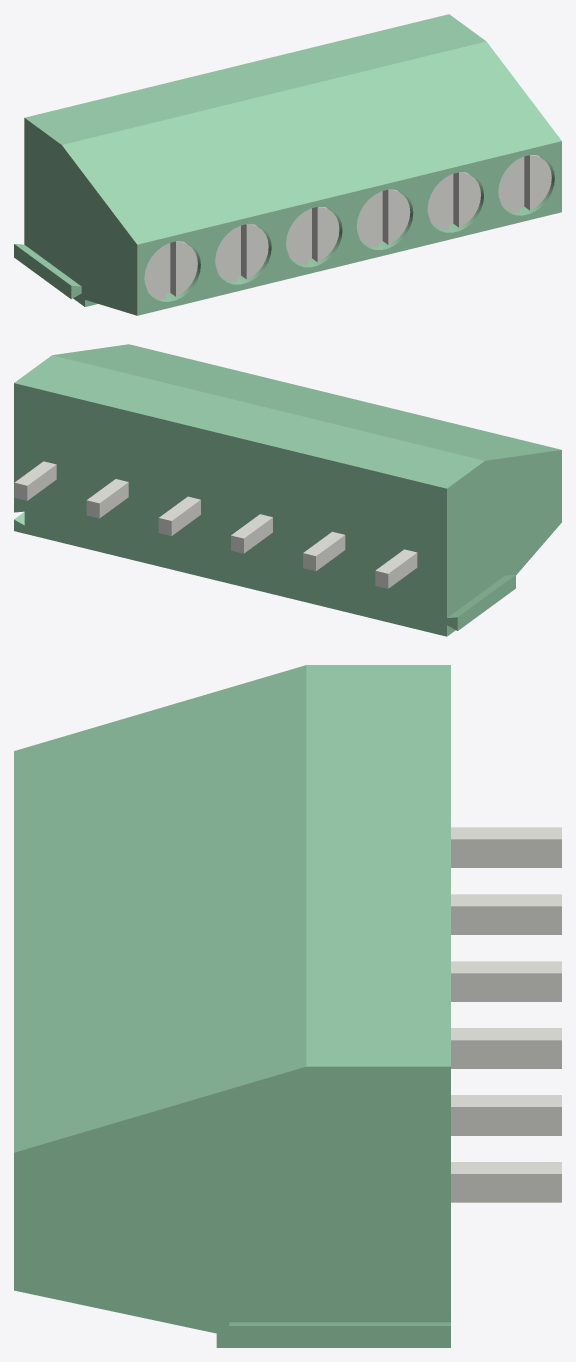
Rendered from TerminalBlock_Phoenix_MKDS-1,5-6_1x06_P5.00mm_Horizontal.glb.
3 renders of one model, top to bottom at view 1: azimuth 30°, elevation 25°; view 2: azimuth 150°, elevation 25°; view 3: azimuth 270°, elevation 25°, orthographic. The views are drawn at different scales.
Parts seen in each view (by area): view 1: Shape_IndexedFaceSet.003, Shape_IndexedFaceSet.004, Shape_IndexedFaceSet.002, Shape_IndexedFaceSet, Shape_IndexedFaceSet.167, Shape_IndexedFaceSet.197, Shape_IndexedFaceSet.187, Shape_IndexedFaceSet.221, Shape_IndexedFaceSet.217, Shape_IndexedFaceSet.177, Shape_IndexedFaceSet.191, Shape_IndexedFaceSet.207 (+6 smaller); view 2: Shape_IndexedFaceSet.005, Shape_IndexedFaceSet.004, Shape_IndexedFaceSet, Shape_IndexedFaceSet.003, Shape_IndexedFaceSet.018, Shape_IndexedFaceSet.039, Shape_IndexedFaceSet.023, Shape_IndexedFaceSet.031, Shape_IndexedFaceSet.035, Shape_IndexedFaceSet.043, Shape_IndexedFaceSet.027, Shape_IndexedFaceSet.006 (+6 smaller); view 3: Shape_IndexedFaceSet.003, Shape_IndexedFaceSet.011, Shape_IndexedFaceSet.004, Shape_IndexedFaceSet.025, Shape_IndexedFaceSet.029, Shape_IndexedFaceSet.033, Shape_IndexedFaceSet.037, Shape_IndexedFaceSet.041, Shape_IndexedFaceSet.045, Shape_IndexedFaceSet.020, Shape_IndexedFaceSet.024, Shape_IndexedFaceSet.028 (+5 smaller).
Part boxes in pixels (box(x1,y1,x2,y2)): Shape_IndexedFaceSet.003: box(62, 41, 561, 244); Shape_IndexedFaceSet.004: box(25, 14, 485, 144); Shape_IndexedFaceSet.002: box(137, 141, 561, 315); Shape_IndexedFaceSet: box(24, 118, 137, 315); Shape_IndexedFaceSet.167: box(246, 224, 268, 279); Shape_IndexedFaceSet.197: box(317, 207, 339, 261); Shape_IndexedFaceSet.187: box(388, 190, 410, 244); Shape_IndexedFaceSet.221: box(427, 176, 449, 230); Shape_IndexedFaceSet.217: box(459, 172, 480, 227); Shape_IndexedFaceSet.177: box(176, 241, 197, 296); Shape_IndexedFaceSet.191: box(356, 193, 378, 247); Shape_IndexedFaceSet.207: box(530, 155, 551, 210); Shape_IndexedFaceSet.005: box(14, 383, 457, 636); Shape_IndexedFaceSet.004: box(14, 355, 484, 488); Shape_IndexedFaceSet: box(447, 450, 561, 636); Shape_IndexedFaceSet.003: box(53, 344, 561, 460); Shape_IndexedFaceSet.018: box(457, 575, 515, 630); Shape_IndexedFaceSet.039: box(27, 464, 56, 500); Shape_IndexedFaceSet.023: box(171, 500, 200, 535); Shape_IndexedFaceSet.031: box(316, 535, 345, 570); Shape_IndexedFaceSet.035: box(388, 553, 417, 588); Shape_IndexedFaceSet.043: box(99, 482, 128, 517); Shape_IndexedFaceSet.027: box(244, 517, 272, 553); Shape_IndexedFaceSet.006: box(447, 574, 515, 617); Shape_IndexedFaceSet.003: box(14, 665, 306, 1152); Shape_IndexedFaceSet.011: box(14, 1066, 450, 1347); Shape_IndexedFaceSet.004: box(306, 665, 450, 1066); Shape_IndexedFaceSet.025: box(451, 1040, 561, 1068); Shape_IndexedFaceSet.029: box(451, 973, 561, 1001); Shape_IndexedFaceSet.033: box(451, 906, 561, 934); Shape_IndexedFaceSet.037: box(451, 839, 561, 867); Shape_IndexedFaceSet.041: box(451, 1174, 561, 1202); Shape_IndexedFaceSet.045: box(451, 1107, 561, 1135); Shape_IndexedFaceSet.020: box(229, 1312, 450, 1322); Shape_IndexedFaceSet.024: box(451, 1028, 561, 1040); Shape_IndexedFaceSet.028: box(451, 961, 561, 973).
Bounding box in the file's own units: 12.1 × 3.86 × 6.81.
